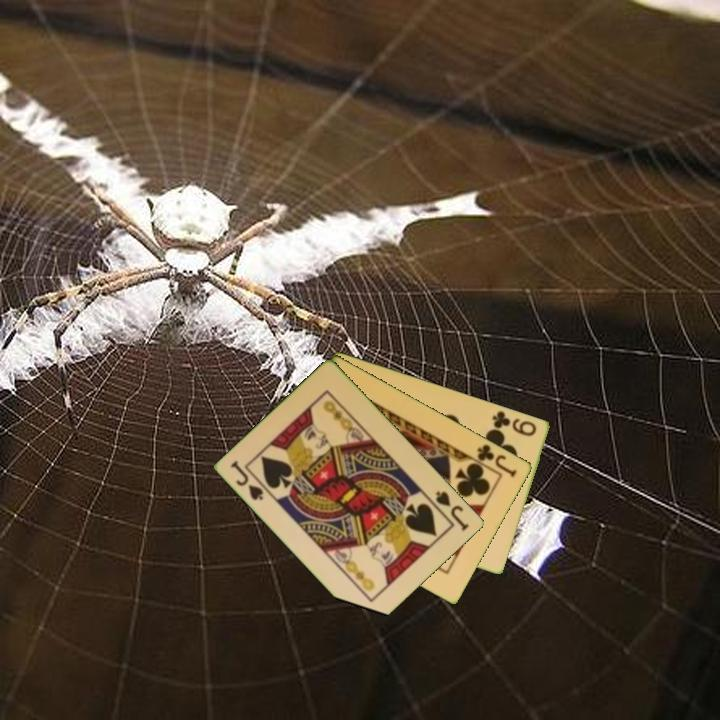9c: (489, 407, 540, 439)
Jc: (474, 440, 520, 480)
Js: (432, 487, 472, 534), (227, 457, 267, 503)
